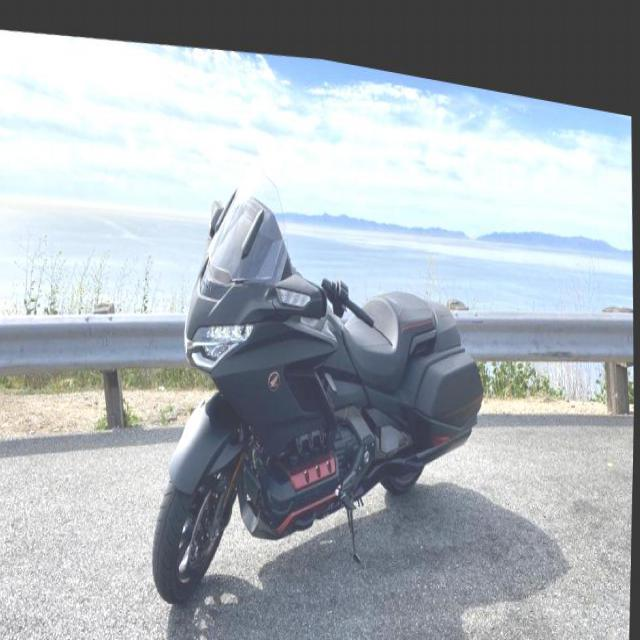Gold Wing: (142, 116, 500, 639)
